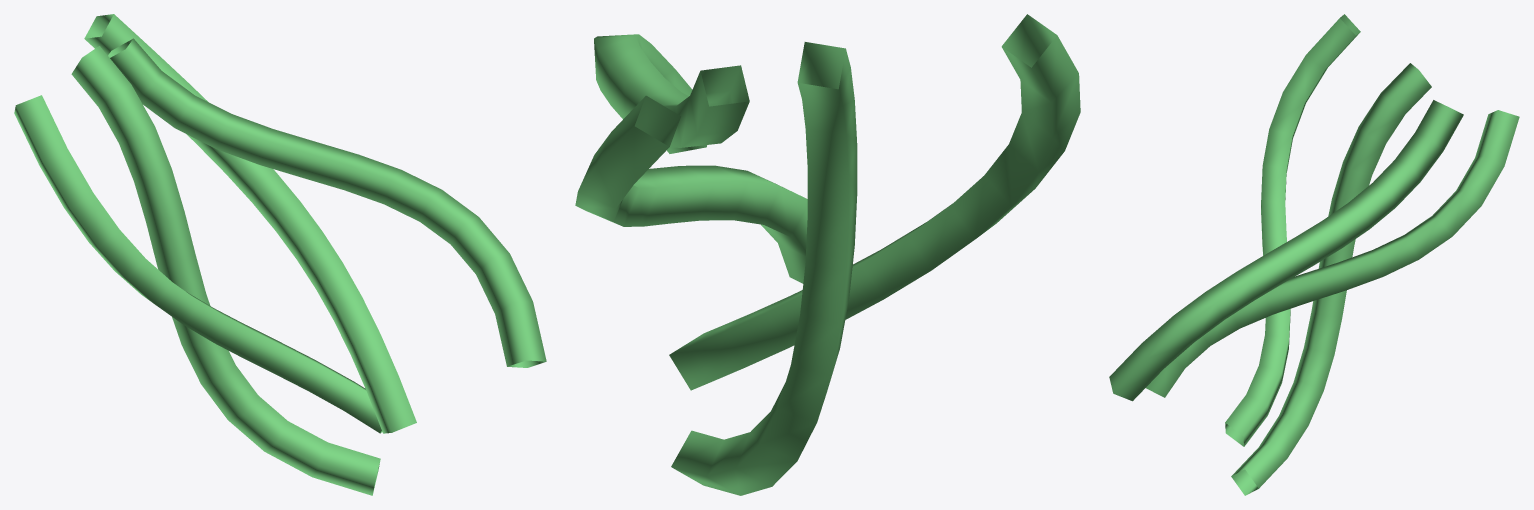
Rendered from fimbuh.dae.
3 renders of one model, left to right at view 1: azimuth 30°, elevation 25°; view 2: azimuth 150°, elevation 25°; view 3: azimuth 270°, elevation 25°, orthographic. The views are drawn at different scales.
Visible parts, largest first — view 1: BezierCurve_000, BezierCurve_001, BezierCurve_002, BezierCurve_003; view 2: BezierCurve_001, BezierCurve_002, BezierCurve_003, BezierCurve_000; view 3: BezierCurve_000, BezierCurve_001, BezierCurve_003, BezierCurve_002.
Part boxes in pixels (box(x1,y1,x2,y2)): BezierCurve_000: box(108, 38, 546, 367); BezierCurve_001: box(71, 46, 380, 495); BezierCurve_002: box(14, 95, 382, 433); BezierCurve_003: box(84, 14, 416, 433); BezierCurve_001: box(671, 42, 857, 495); BezierCurve_002: box(669, 14, 1080, 390); BezierCurve_003: box(575, 95, 807, 283); BezierCurve_000: box(594, 34, 749, 153); BezierCurve_000: box(1109, 100, 1463, 401); BezierCurve_001: box(1231, 63, 1431, 495); BezierCurve_003: box(1146, 110, 1519, 397); BezierCurve_002: box(1225, 14, 1360, 446).
Bounding box in the file's own units: 0.6928 × 0.7212 × 0.7052.
